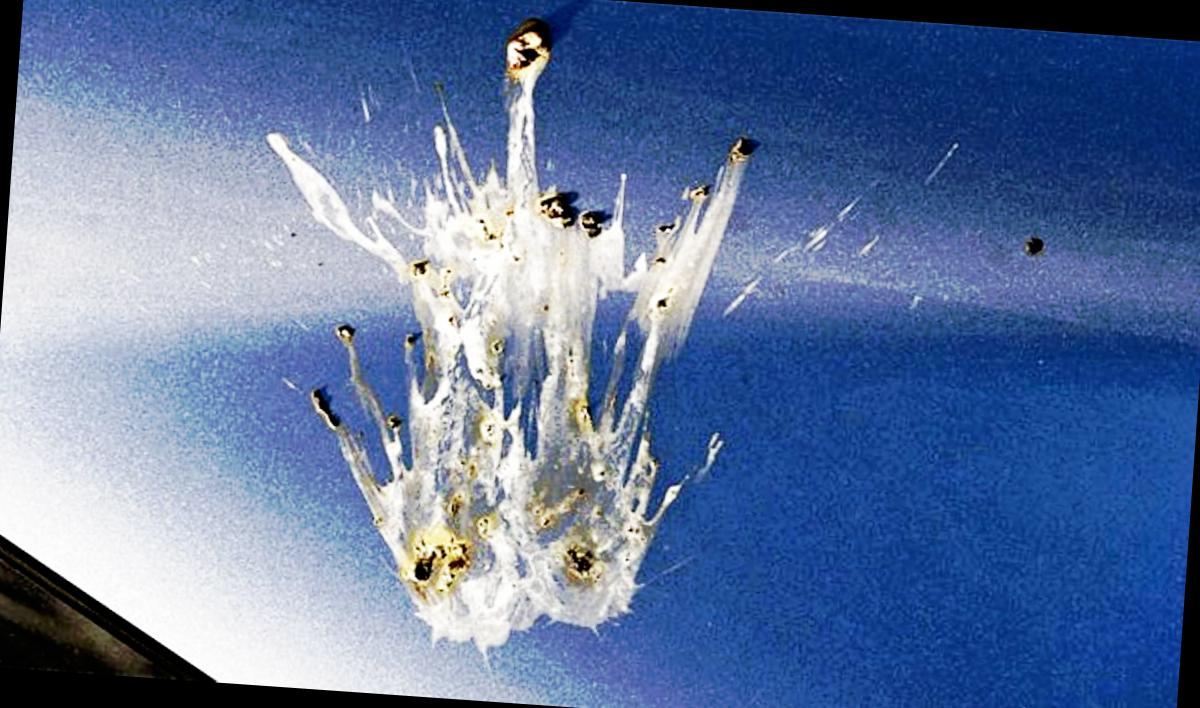Bird Poop: (269, 27, 749, 652)
